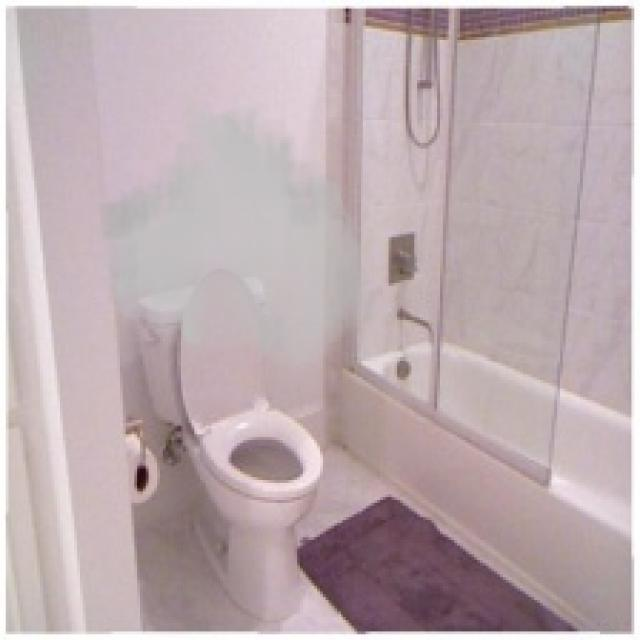Smoke: (91, 92, 372, 374)
